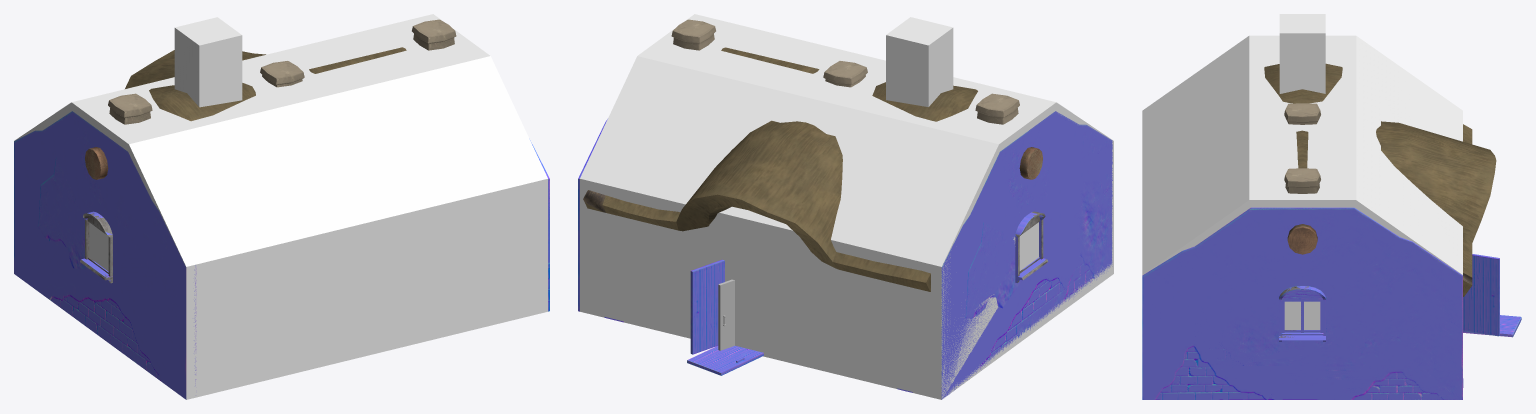
Rendered from House_FileneA.fbx.
3 renders of one model, left to right at view 1: azimuth 30°, elevation 25°; view 2: azimuth 150°, elevation 25°; view 3: azimuth 270°, elevation 25°, orthographic. The views are drawn at different scales.
Visible parts, largest first — view 1: CharaShadow_State0, House_FileneA_Base_Bmap, FileneHouseABottom_Bmap, House_FileneA_Roof_Bmap, FileneHouseATop_Top; view 2: CharaShadow_State0, House_FileneA_Roof_Bmap, House_FileneA_Base_Bmap, FileneHouseABottom_Bmap, House_FileneA_Door_Bmap, FileneHouseATop_Top, House_FileneA_Door_Combat; view 3: House_FileneA_Base_Bmap, CharaShadow_State0, FileneHouseABottom_Bmap, House_FileneA_Roof_Bmap, House_FileneA_Door_Bmap.
Boxes of the visible parts, box(x1,y1,x2,y2) form: CharaShadow_State0: box(14, 14, 547, 399); House_FileneA_Base_Bmap: box(14, 111, 549, 399); FileneHouseABottom_Bmap: box(37, 111, 549, 311); House_FileneA_Roof_Bmap: box(85, 19, 456, 179); FileneHouseATop_Top: box(80, 148, 112, 283); CharaShadow_State0: box(580, 14, 1113, 399); House_FileneA_Roof_Bmap: box(585, 19, 1042, 291); House_FileneA_Base_Bmap: box(578, 111, 1094, 399); FileneHouseABottom_Bmap: box(687, 125, 1112, 392); House_FileneA_Door_Bmap: box(690, 259, 724, 354); FileneHouseATop_Top: box(583, 147, 1048, 282); House_FileneA_Door_Combat: box(718, 279, 734, 350); House_FileneA_Base_Bmap: box(1142, 207, 1463, 399); CharaShadow_State0: box(1142, 14, 1462, 329); FileneHouseABottom_Bmap: box(1142, 207, 1521, 399); House_FileneA_Roof_Bmap: box(1264, 63, 1496, 296); House_FileneA_Door_Bmap: box(1463, 254, 1499, 336).
Bounding box in the file's own units: 1145 × 805 × 1064.
